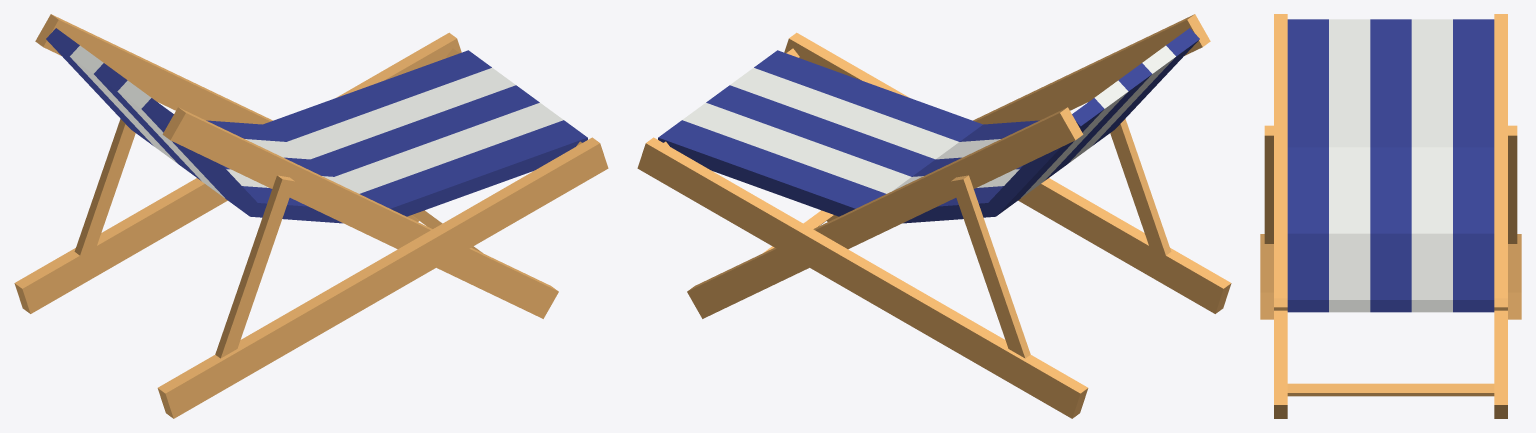
File: beachChairB.FBX
3 renders of one model, left to right at view 1: azimuth 30°, elevation 25°; view 2: azimuth 150°, elevation 25°; view 3: azimuth 270°, elevation 25°, orthographic. The views are drawn at different scales.
Parts seen in each view (by area): view 1: beachChairB; view 2: beachChairB; view 3: beachChairB.
Boxes of the visible parts, bbox=[...] form: beachChairB: bbox=[14, 14, 608, 418]; beachChairB: bbox=[637, 14, 1231, 418]; beachChairB: bbox=[1260, 14, 1521, 418].
Size of the model in its own units: 0.2872 by 0.183 by 0.1696.
